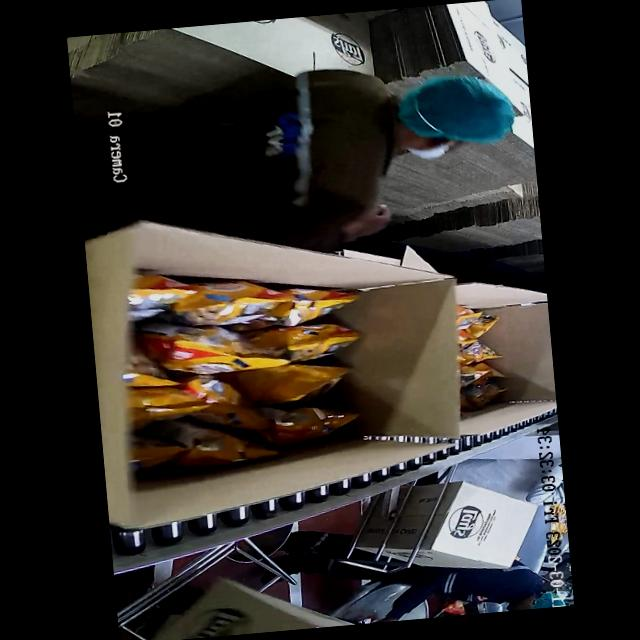cheese: (118, 266, 366, 456), (444, 286, 507, 412)
